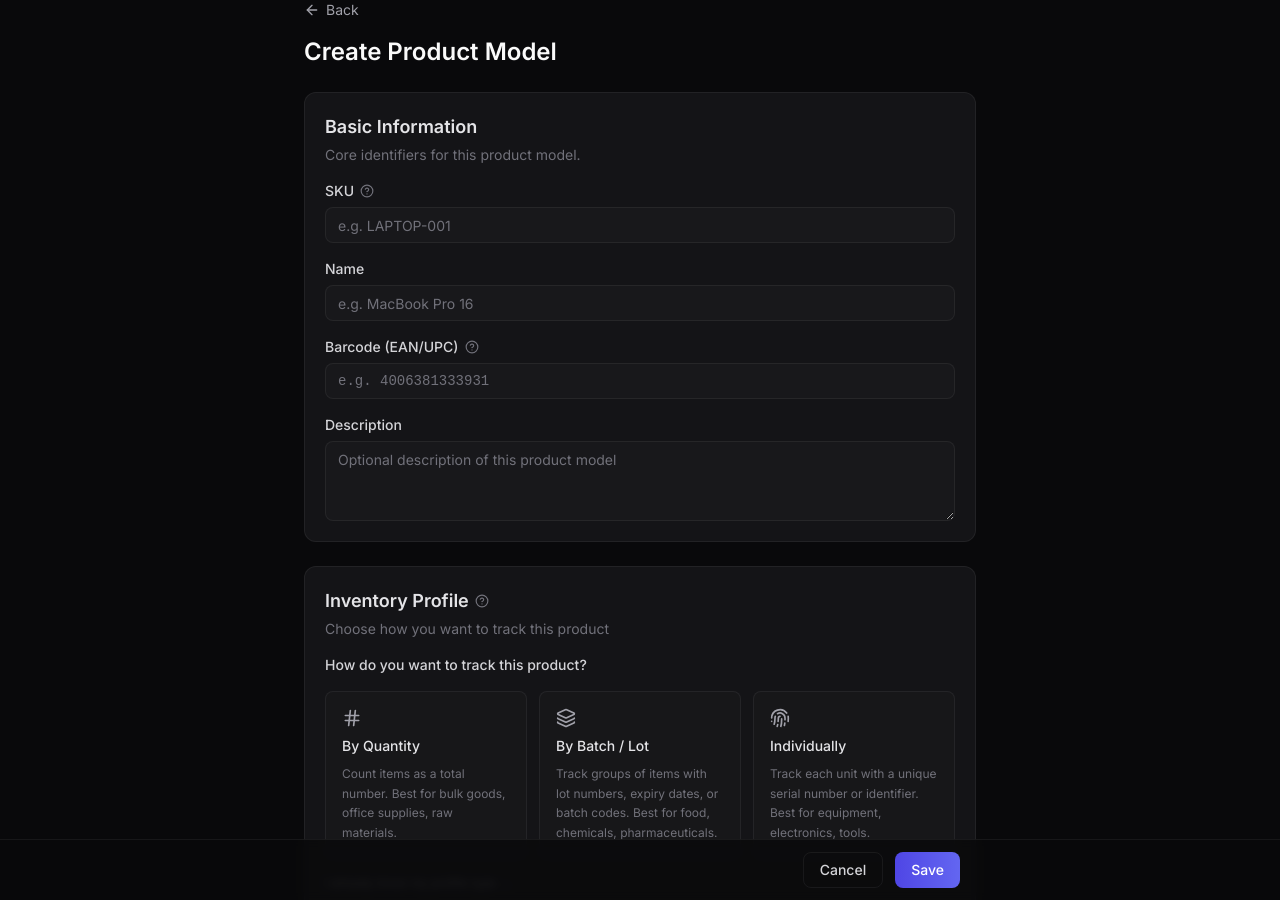
Test: ProductModelCreate Form › shows profile info card when profile selected via wizard
This screenshot has width=1280, height=900.
Click the text "Individually" at (808, 746), box [770,736,846,756]
(page scrolled)
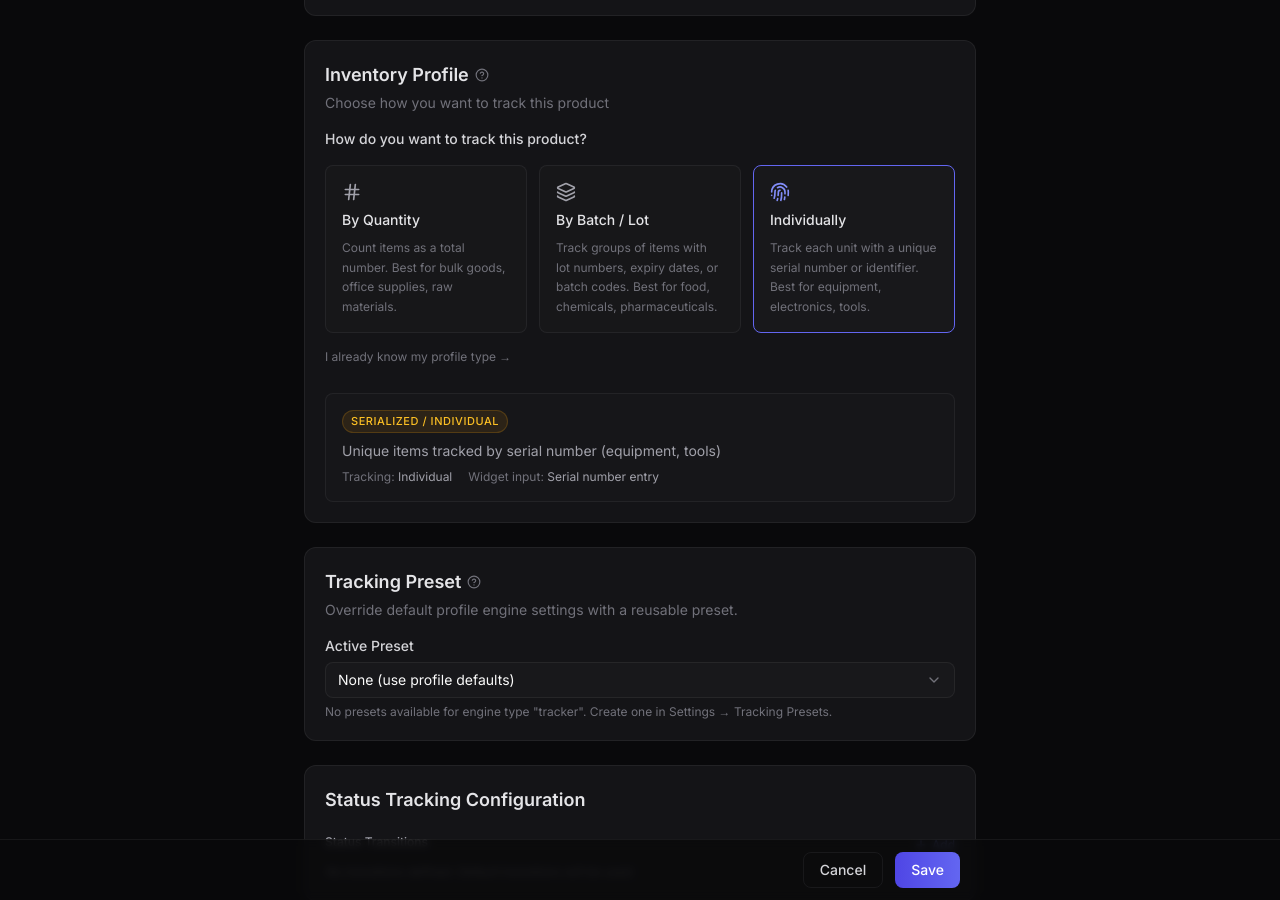
Result: the text "Serialized / Individual" is shown at [342,410,508,432]
Result: the text "Unique items tracked by serial number (equipment, tools)" is shown at [342,442,721,458]
